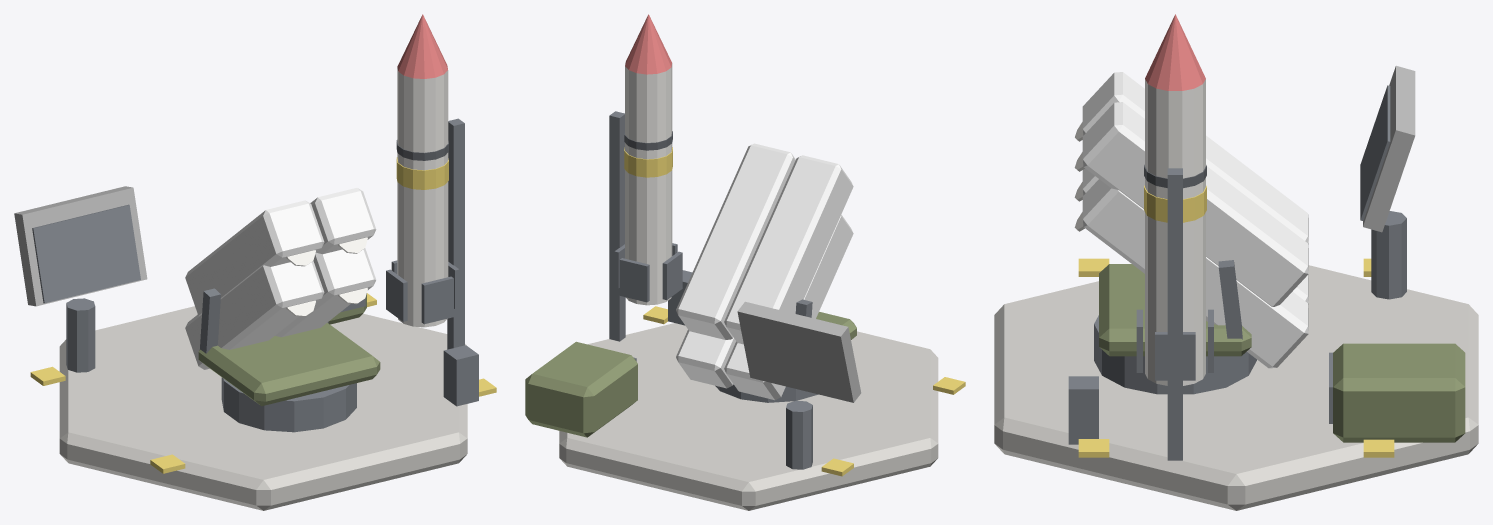
File: aadef_4.glb
3 renders of one model, left to right at view 1: azimuth 30°, elevation 25°; view 2: azimuth 150°, elevation 25°; view 3: azimuth 270°, elevation 25°, orthographic. The views are drawn at different scales.
Parts seen in each view (by area): view 1: main, turret, rotor; view 2: main, turret, rotor; view 3: main, turret, rotor.
Boxes of the visible parts, bbox=[...] form: main: bbox=[30, 14, 496, 510]; turret: bbox=[185, 188, 380, 406]; rotor: bbox=[14, 186, 147, 306]; main: bbox=[525, 14, 965, 510]; turret: bbox=[676, 143, 856, 400]; rotor: bbox=[737, 301, 861, 402]; main: bbox=[994, 14, 1478, 510]; turret: bbox=[1074, 72, 1308, 368]; rotor: bbox=[1360, 65, 1415, 232].
Bounding box in the file's own units: 1.08 × 1 × 0.9526.
